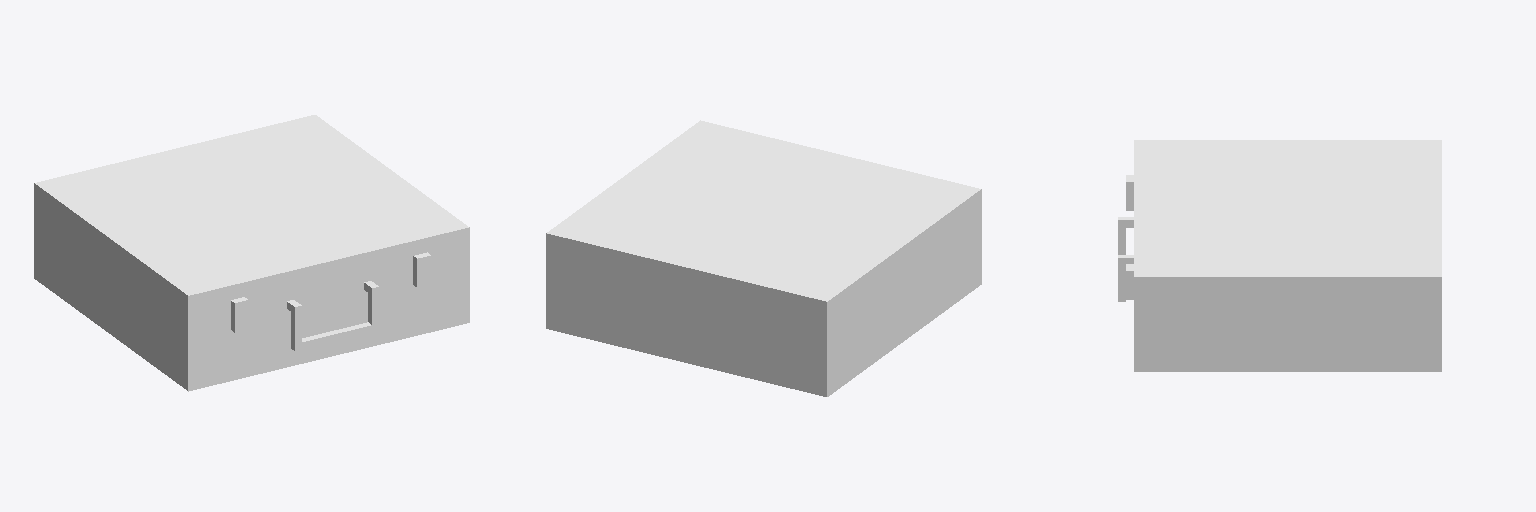
Rendered from Pensos.obj.
The picture shows the model from 3 angles: view 1: azimuth 30°, elevation 25°; view 2: azimuth 150°, elevation 25°; view 3: azimuth 270°, elevation 25°; orthographic projection.
Visible parts, largest first — view 1: object 1; view 2: object 1; view 3: object 1.
Boxes of the visible parts, box(x1,y1,x2,y2) form: object 1: box(34, 115, 469, 391); object 1: box(546, 120, 981, 396); object 1: box(1118, 140, 1441, 371).
Bounding box in the file's own units: 4 × 1.3 × 4.